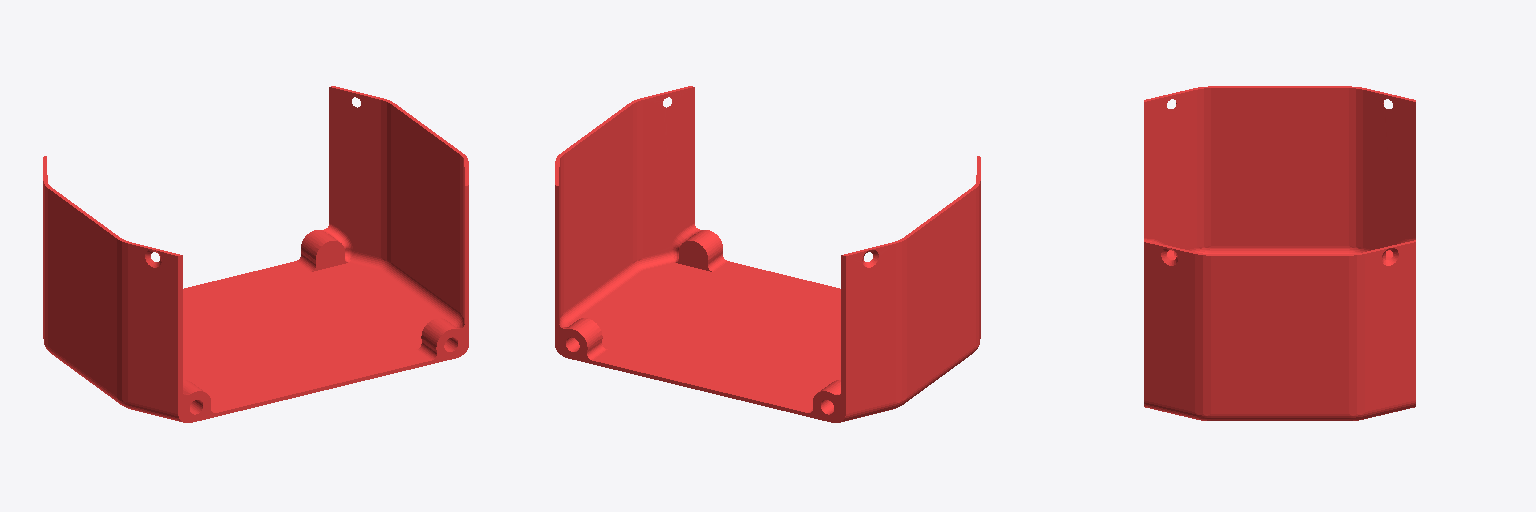
The model's file is chassis_front.obj.
The picture shows the model from 3 angles: view 1: azimuth 30°, elevation 25°; view 2: azimuth 150°, elevation 25°; view 3: azimuth 270°, elevation 25°; orthographic projection.
Parts seen in each view (by area): view 1: front; view 2: front; view 3: front.
Boxes of the visible parts, x1,y1,x2,y2 form: front: [43, 86, 468, 422]; front: [555, 86, 980, 422]; front: [1144, 86, 1415, 420].
Size of the model in its own units: 0.124 by 0.058 by 0.084.